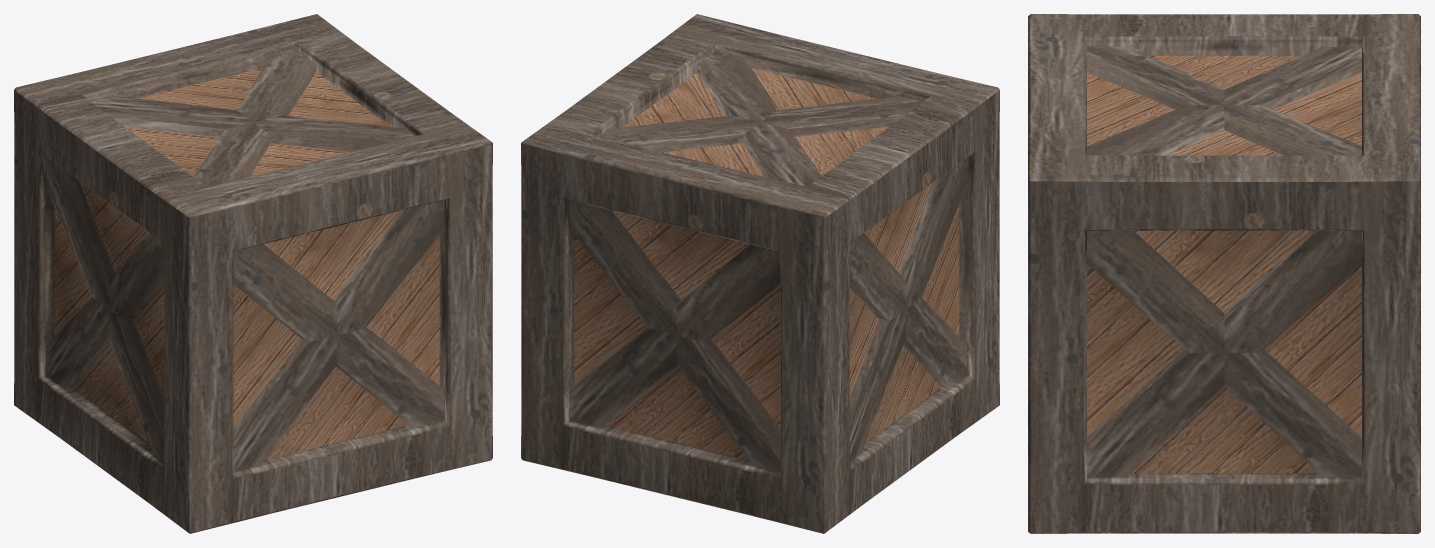
3 renders of one model, left to right at view 1: azimuth 30°, elevation 25°; view 2: azimuth 150°, elevation 25°; view 3: azimuth 270°, elevation 25°, orthographic. The views are drawn at different scales.
Visible parts, largest first — view 1: SM_Crate_001; view 2: SM_Crate_001; view 3: SM_Crate_001.
Boxes of the visible parts, x1=… form: SM_Crate_001: x1=14, y1=14, x2=492, y2=533; SM_Crate_001: x1=521, y1=14, x2=999, y2=533; SM_Crate_001: x1=1028, y1=14, x2=1420, y2=533.
Bounding box in the file's own units: 100 × 100 × 100.
1 material, 1 textured.
